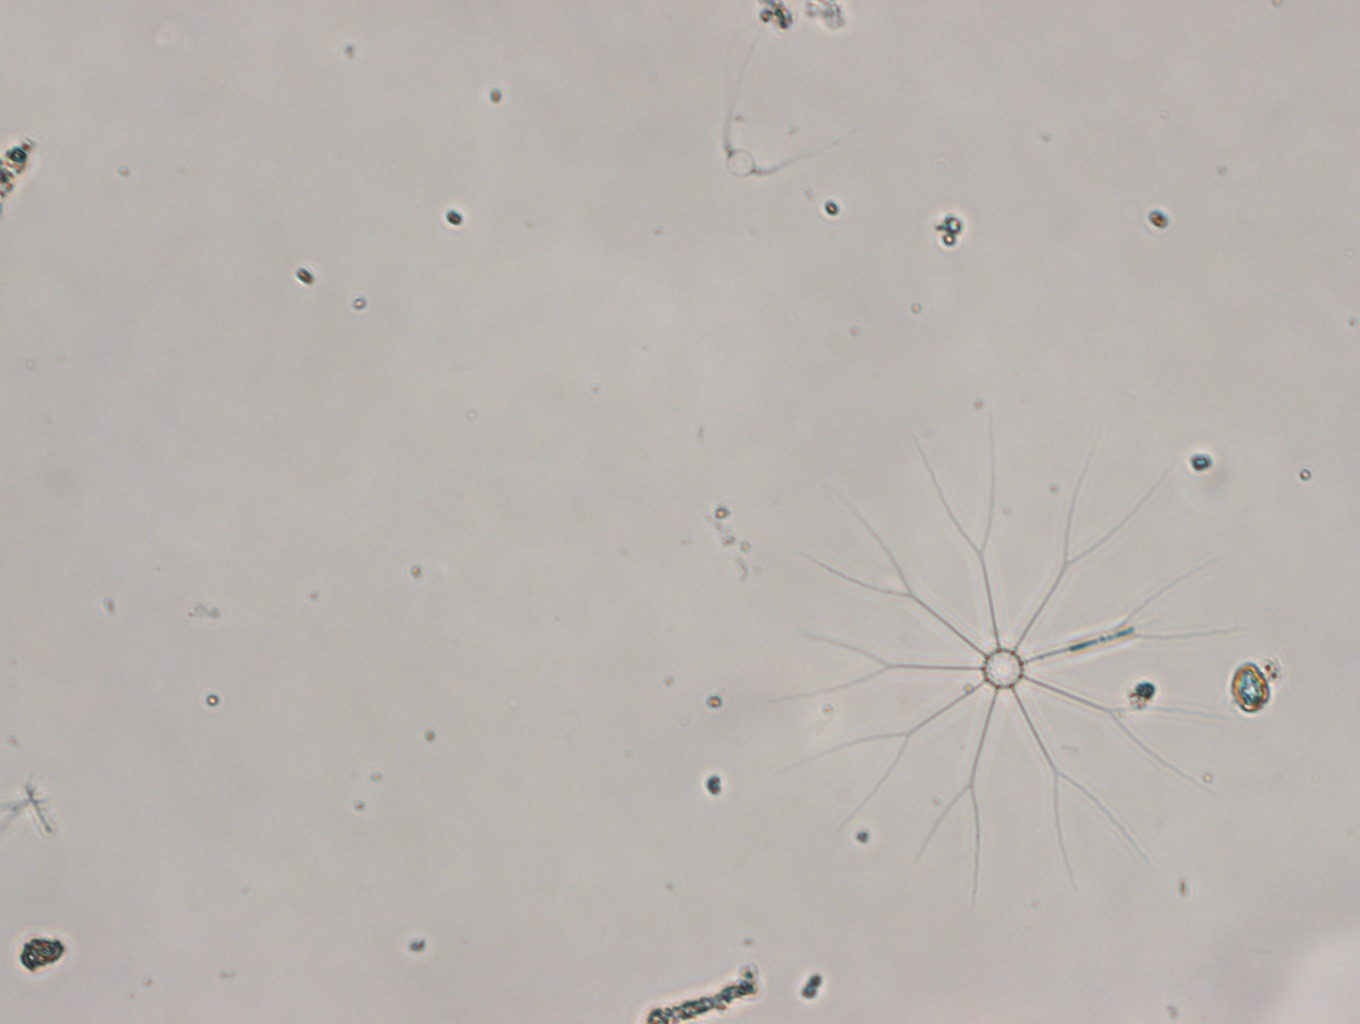bacteriastrum: (770, 409, 1244, 907)
